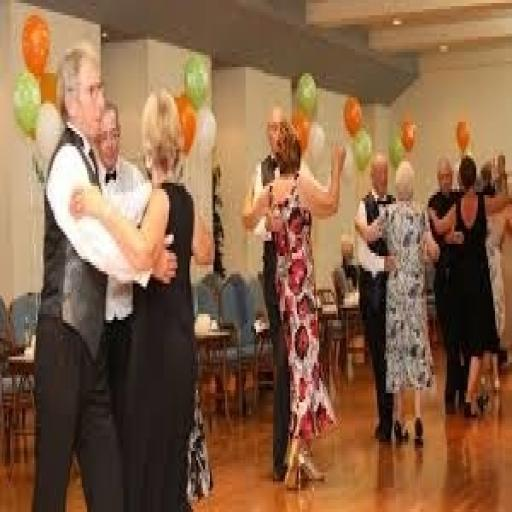dancing: (31, 43, 179, 509), (241, 116, 348, 494)
